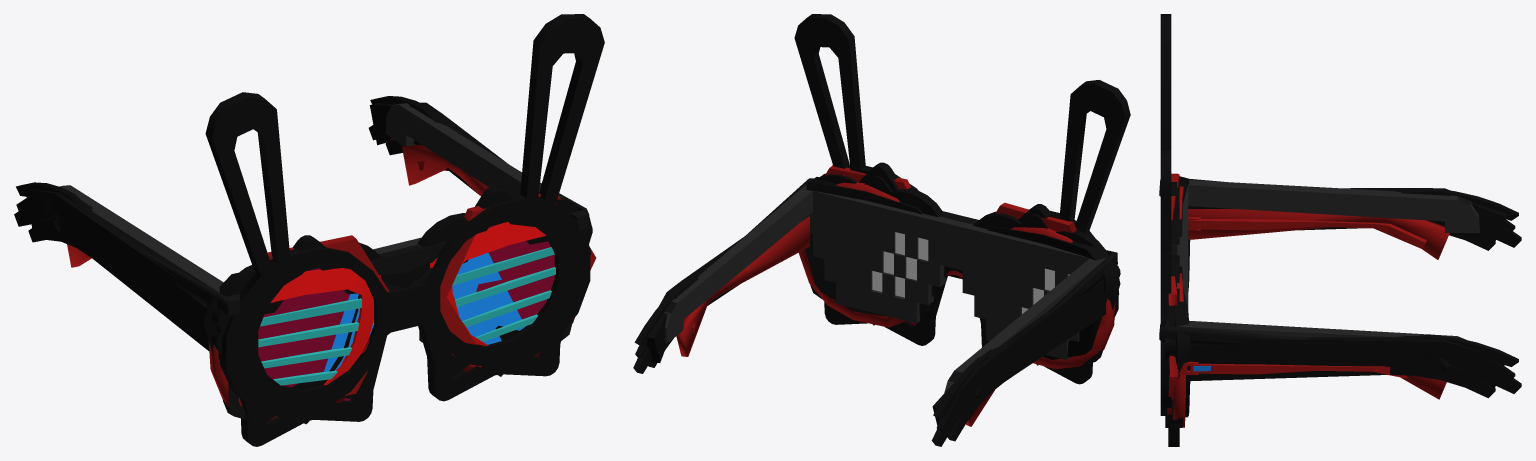
Rendered from Spects_1 to 10.FBX.
3 renders of one model, left to right at view 1: azimuth 30°, elevation 25°; view 2: azimuth 150°, elevation 25°; view 3: azimuth 270°, elevation 25°, orthographic. The views are drawn at different scales.
Visible parts, largest first — view 1: Spects_10, Spects_2, Spects_9, Spects_3, Spects_8, Spects_1, Spects_5, Spects_6, Spects_4, Spects_7; view 2: Spects_9, Spects_10, Spects_1, Spects_7, Spects_4, Spects_5, Spects_3, Spects_6, Spects_8; view 3: Spects_9, Spects_10, Spects_1, Spects_8, Spects_7, Spects_4, Spects_3, Spects_6, Spects_5.
Part boxes in pixels (x1,y1,x2,y2): Spects_10: [28, 14, 604, 418]; Spects_2: [258, 138, 555, 385]; Spects_9: [60, 103, 563, 342]; Spects_3: [16, 96, 592, 425]; Spects_8: [267, 160, 596, 395]; Spects_1: [26, 102, 591, 371]; Spects_5: [14, 125, 591, 446]; Spects_6: [54, 182, 589, 419]; Spects_4: [16, 115, 577, 424]; Spects_7: [67, 145, 574, 422]; Spects_9: [664, 184, 1106, 392]; Spects_10: [648, 14, 1130, 441]; Spects_1: [646, 177, 1120, 434]; Spects_7: [676, 182, 1115, 426]; Spects_4: [635, 173, 1108, 433]; Spects_5: [633, 175, 1119, 446]; Spects_3: [634, 162, 1120, 418]; Spects_6: [739, 178, 1117, 398]; Spects_8: [692, 165, 1076, 332]; Spects_9: [1177, 180, 1479, 417]; Spects_10: [1160, 14, 1495, 415]; Spects_1: [1174, 176, 1506, 416]; Spects_8: [1167, 173, 1426, 414]; Spects_7: [1173, 186, 1449, 427]; Spects_4: [1168, 175, 1515, 383]; Spects_3: [1165, 182, 1518, 427]; Spects_6: [1159, 178, 1449, 427]; Spects_5: [1168, 187, 1521, 446].
Size of the model in its own units: 26.93 by 23.35 by 25.45.
